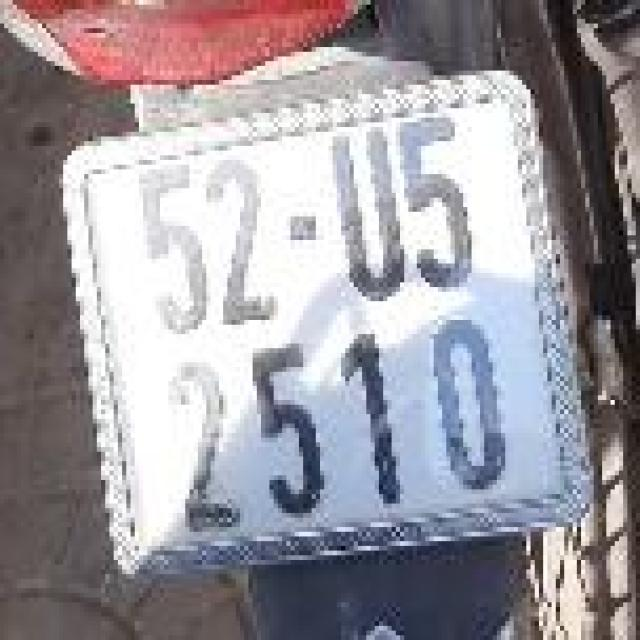0: (422, 299, 526, 506)
1: (333, 320, 423, 531)
2: (148, 345, 257, 553), (200, 136, 300, 338)
5: (235, 325, 346, 550), (392, 109, 496, 311), (123, 160, 225, 358)
U: (318, 117, 423, 323)
